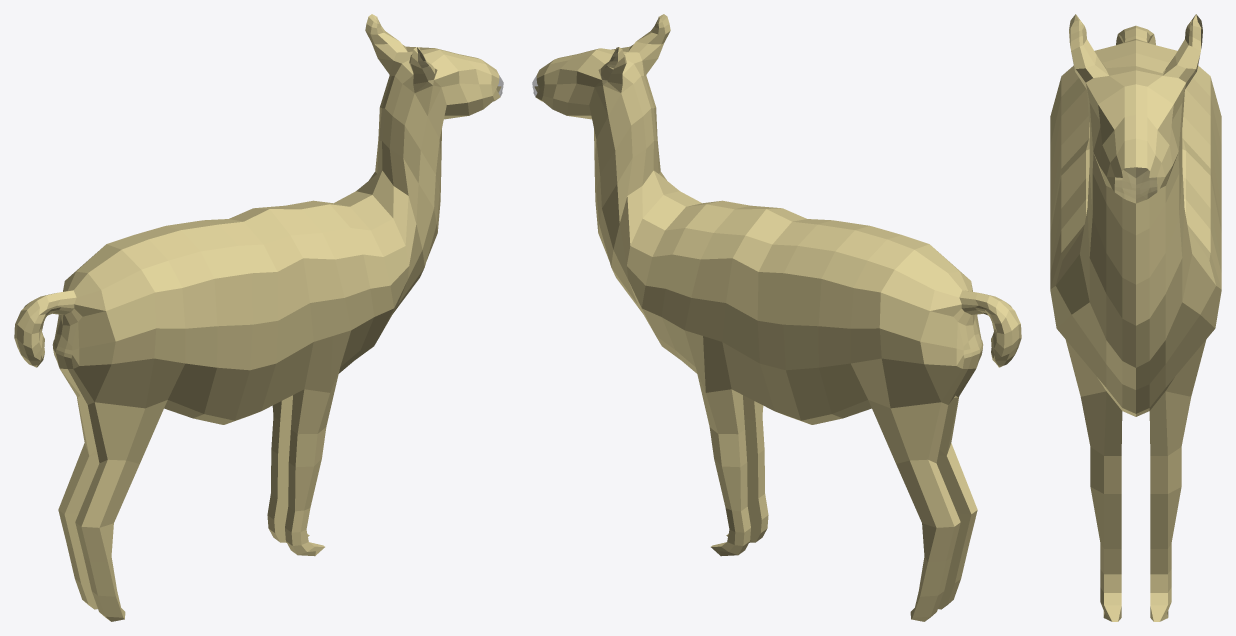
The model's file is LamaGlama.glb.
The picture shows the model from 3 angles, left to right: view 1: azimuth 30°, elevation 25°; view 2: azimuth 150°, elevation 25°; view 3: azimuth 270°, elevation 25°; orthographic projection. The views are drawn at different scales.
Parts seen in each view (by area): view 1: 平面; view 2: 平面; view 3: 平面.
Part boxes in pixels (box(x1,y1,x2,y2)): 平面: box(14, 14, 503, 621); 平面: box(532, 14, 1021, 621); 平面: box(1050, 14, 1221, 621).
Bounding box in the file's own units: 2.36 × 2.39 × 0.5393.
